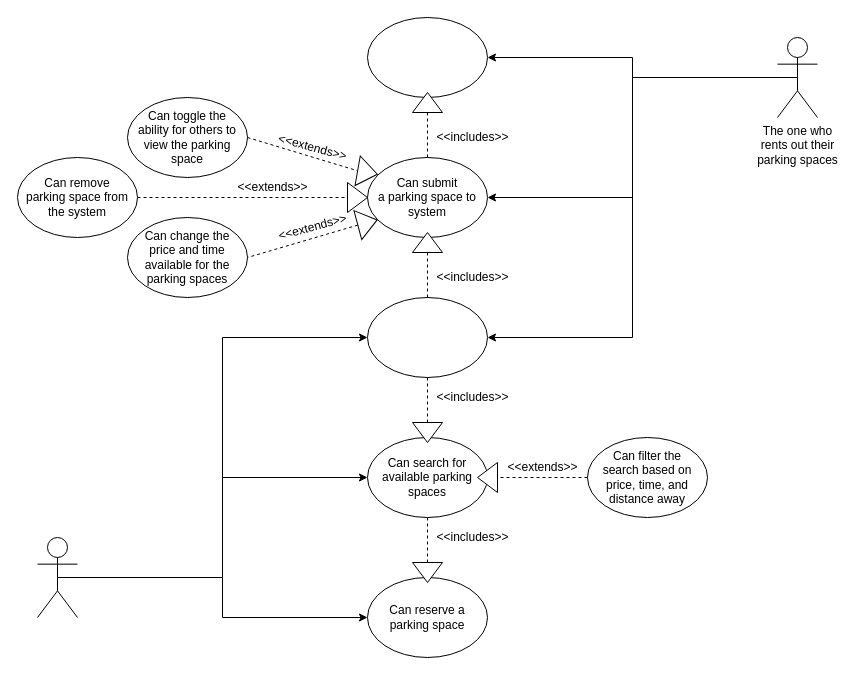
Image size: 855x675. Some labels were removed from this diagram. Each missing label, with the centre of its shape:
"Can create an account and log in" belongs at pixel 427 337.
"Can earn revenue from those who park in their parking spaces" belongs at pixel 427 57.
"The one who parks" belongs at pixel 57 577.
